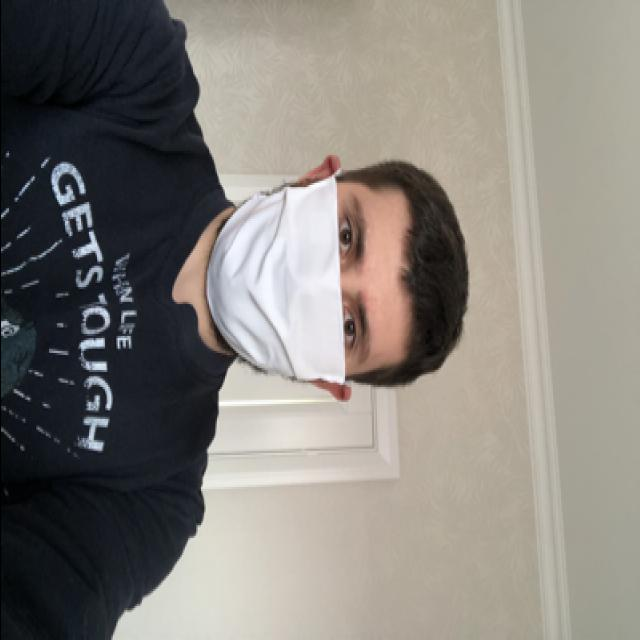with_mask: (206, 172, 388, 380)
